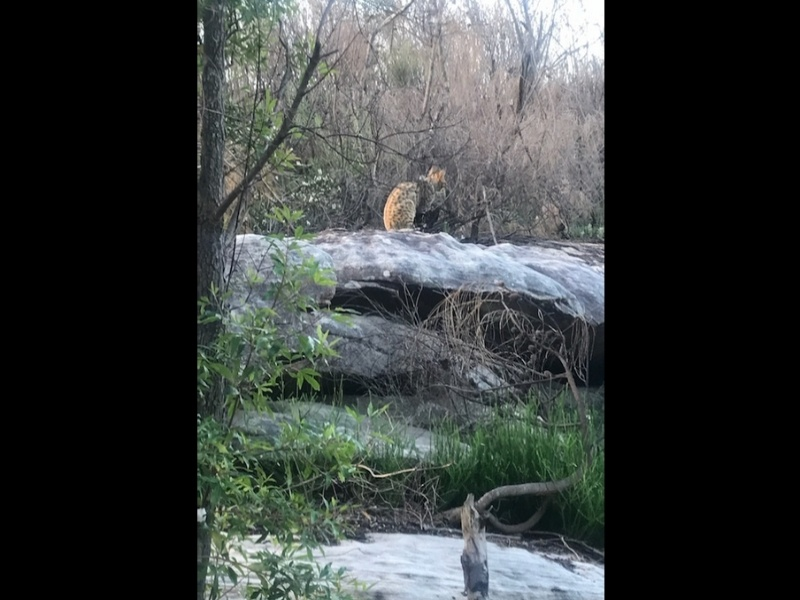cat: (382, 168, 447, 238)
